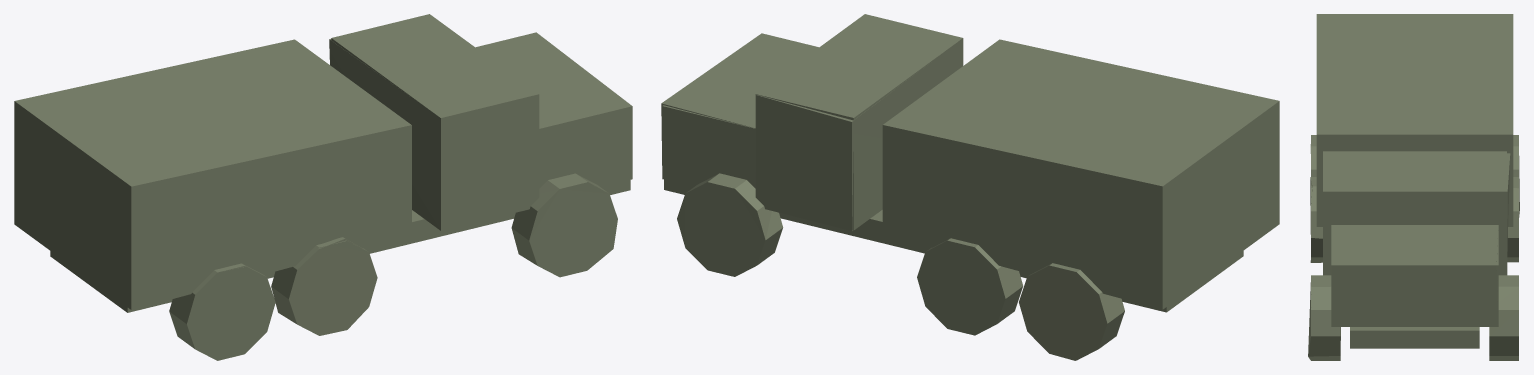
File: ural375.glb
3 views of the same model, side by side, from view 1: azimuth 30°, elevation 25°; view 2: azimuth 150°, elevation 25°; view 3: azimuth 270°, elevation 25° (orthographic). The views are drawn at different scales.
Parts seen in each view (by area): view 1: ural375_b, ural375; view 2: ural375_b, ural375; view 3: ural375_b, ural375.
Part boxes in pixels (<box>): ural375_b: <box>14,32,632,360</box>; ural375: <box>214,14,630,292</box>; ural375_b: <box>661,33,1279,360</box>; ural375: <box>662,14,1078,360</box>; ural375_b: <box>1308,14,1519,360</box>; ural375: <box>1311,135,1518,355</box>.
Size of the model in its own units: 7.13 by 2.53 by 3.
